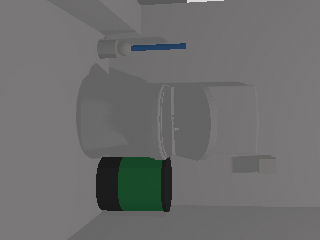lid_1: (171, 85, 217, 159)
